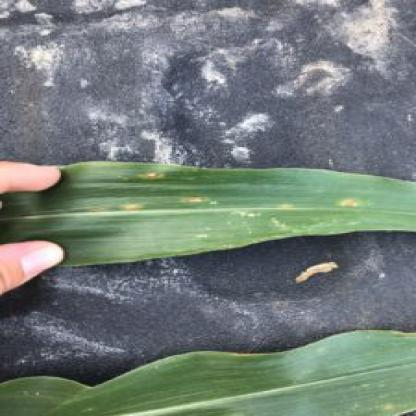corn gray leaf spot: (67, 151, 414, 273)
